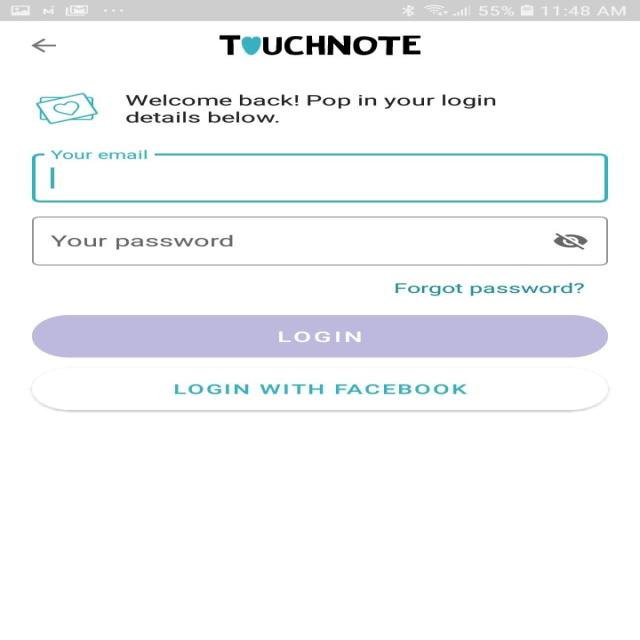EditText: (32, 150, 608, 202), (32, 216, 608, 265)
Icon: (552, 233, 588, 250), (30, 38, 56, 52)
Image: (218, 34, 420, 56), (36, 93, 98, 124)
Text: (125, 94, 495, 123), (394, 282, 584, 296), (50, 235, 233, 249), (49, 150, 148, 160)
TextButton: (31, 366, 609, 410), (31, 314, 608, 358)
